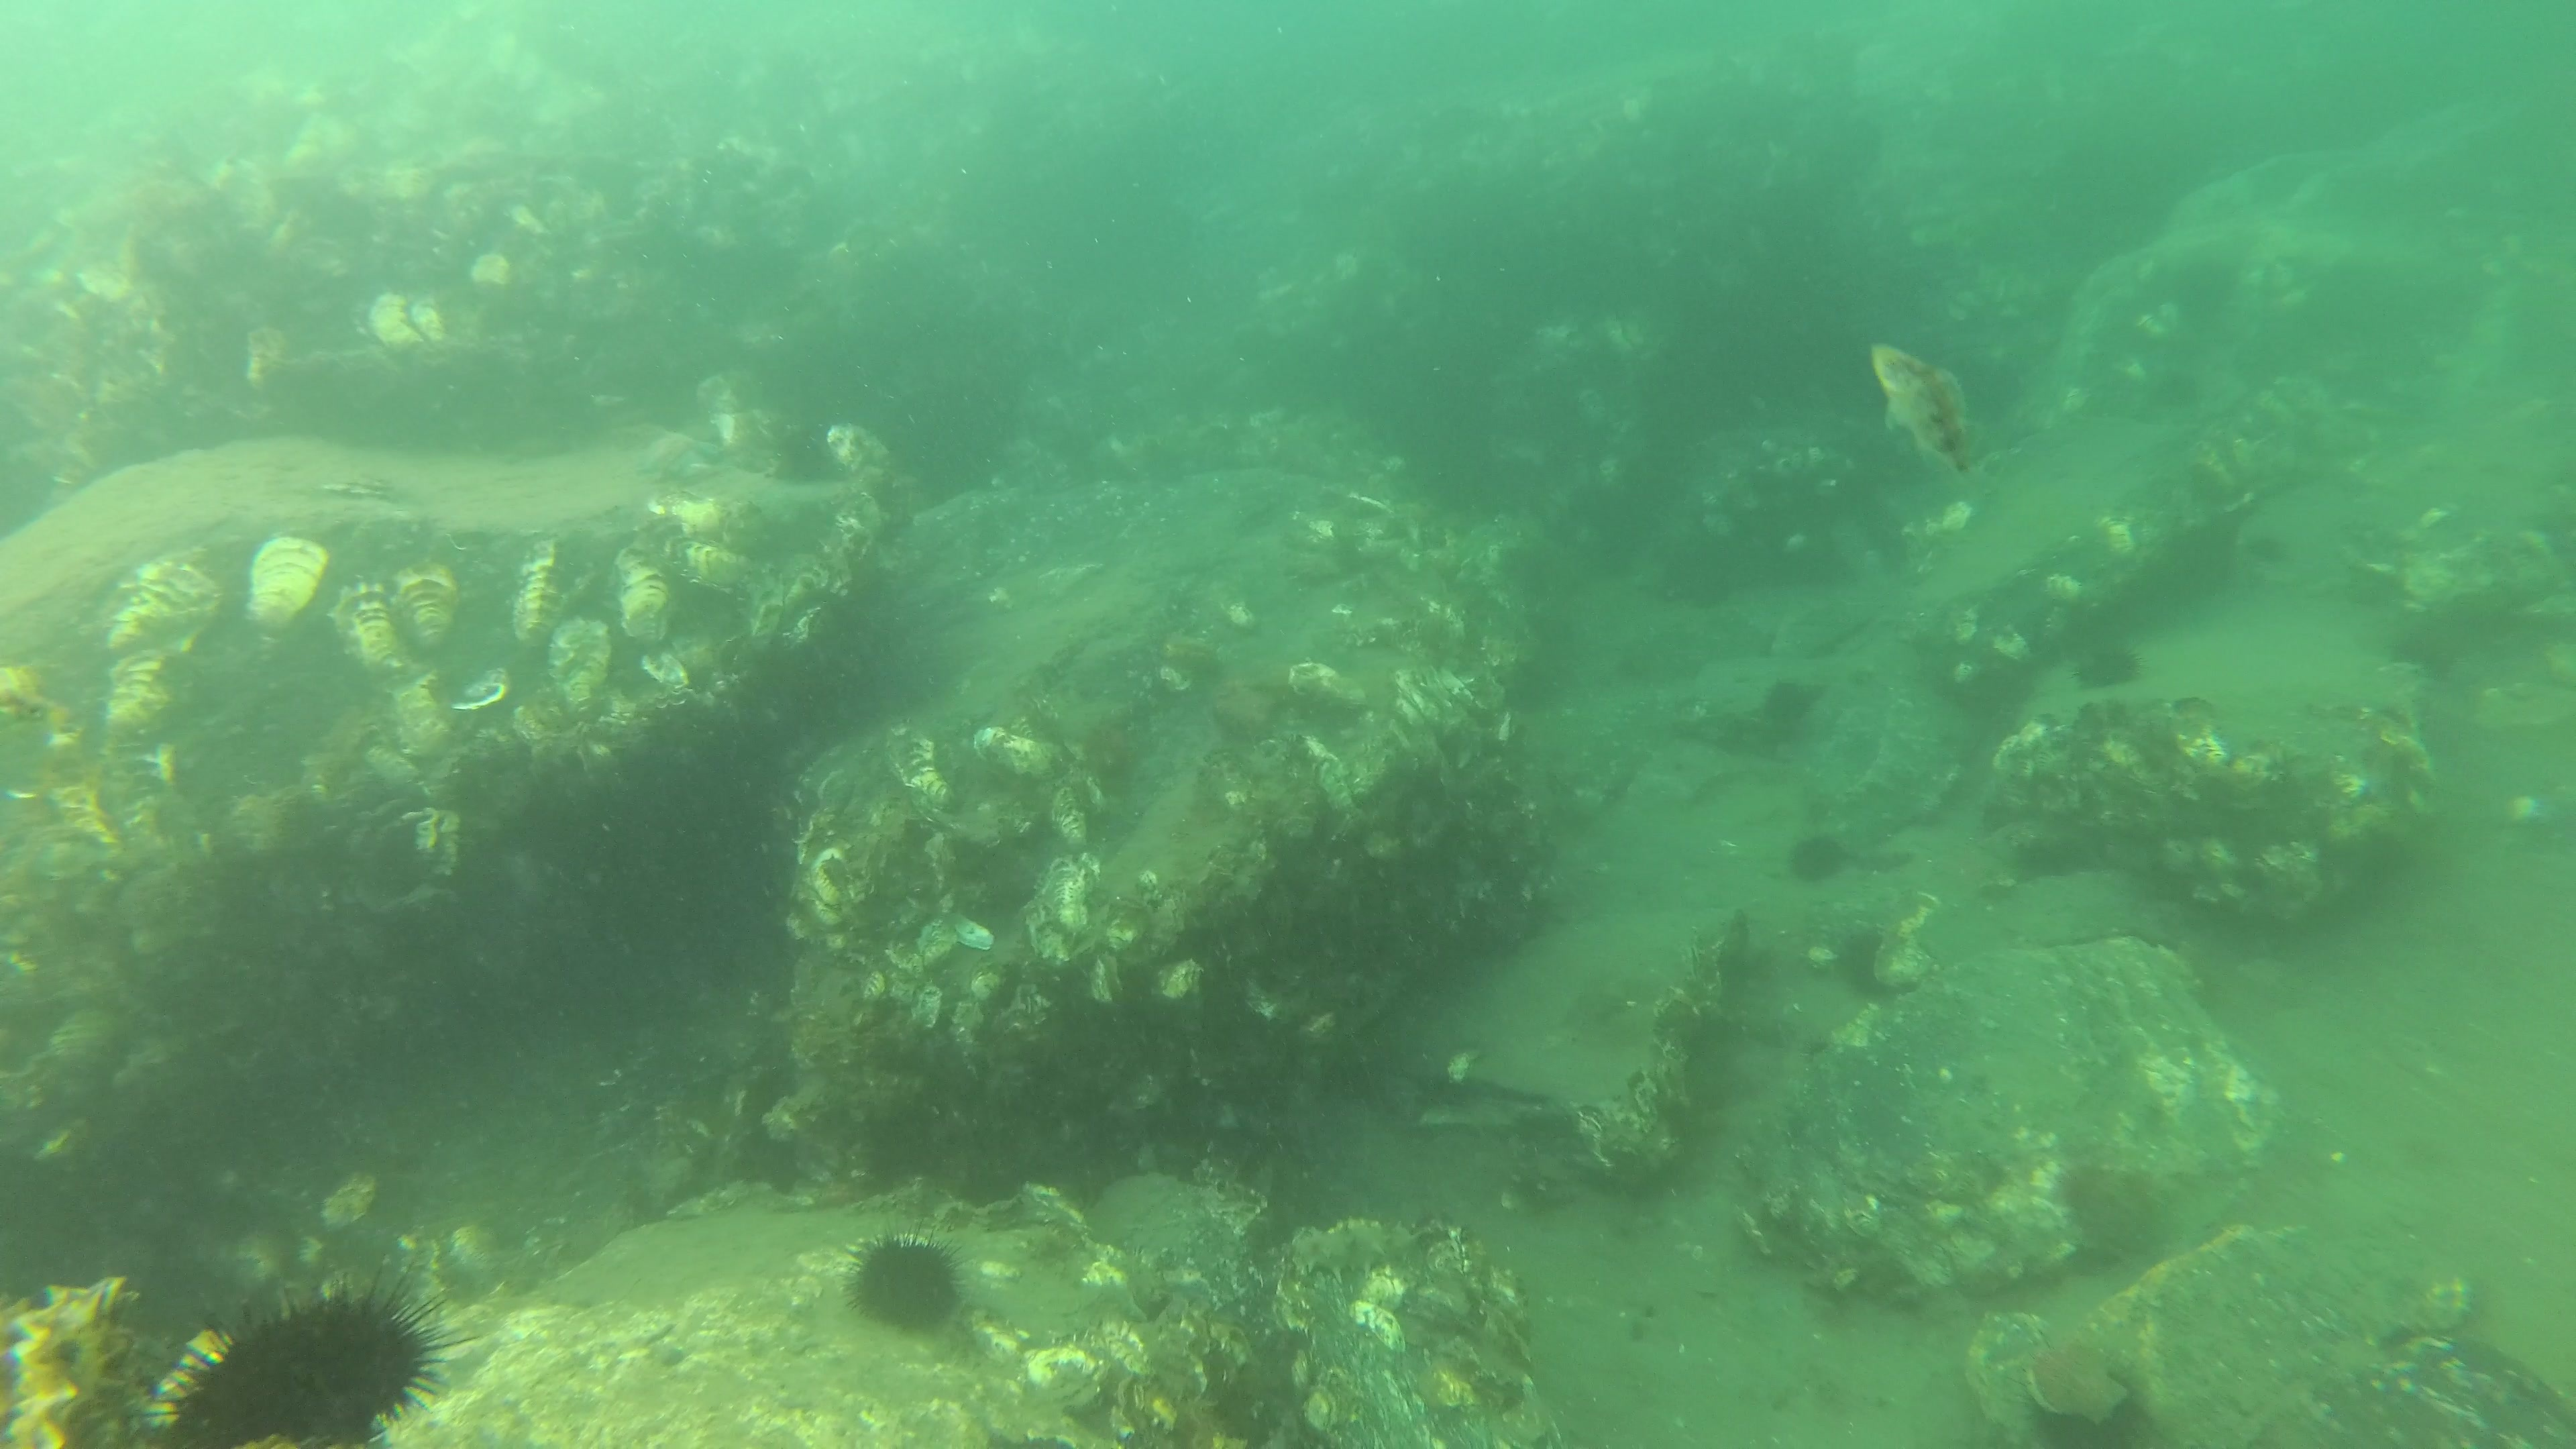echinus: (165, 1274, 478, 1449), (842, 1233, 975, 1338), (2070, 648, 2153, 697), (1787, 832, 1854, 890), (1836, 931, 1902, 987), (1760, 678, 1819, 718)
scallop: (2019, 1338, 2130, 1430)
